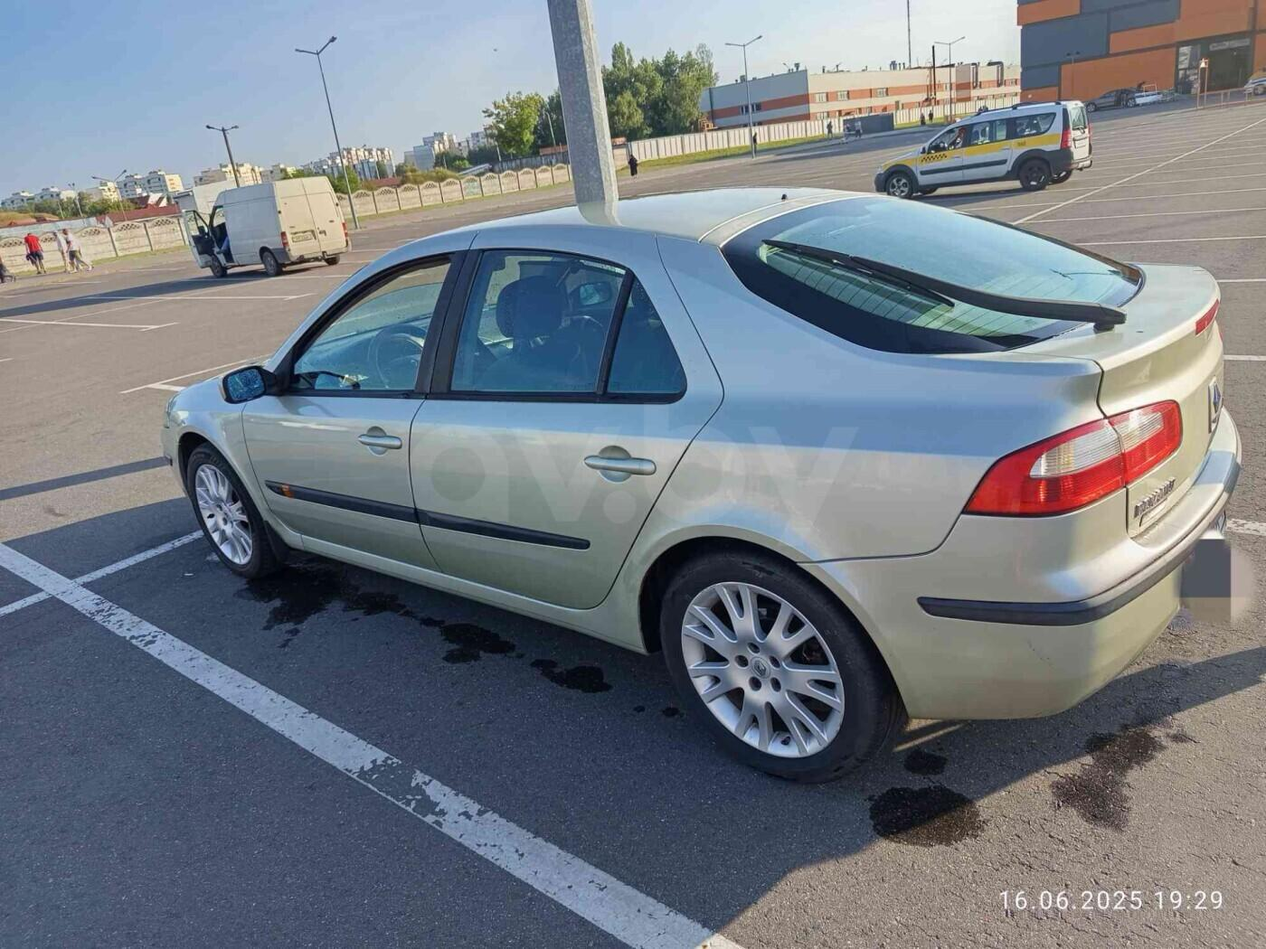Laguna_2001-2005: (160, 185, 1253, 781)
